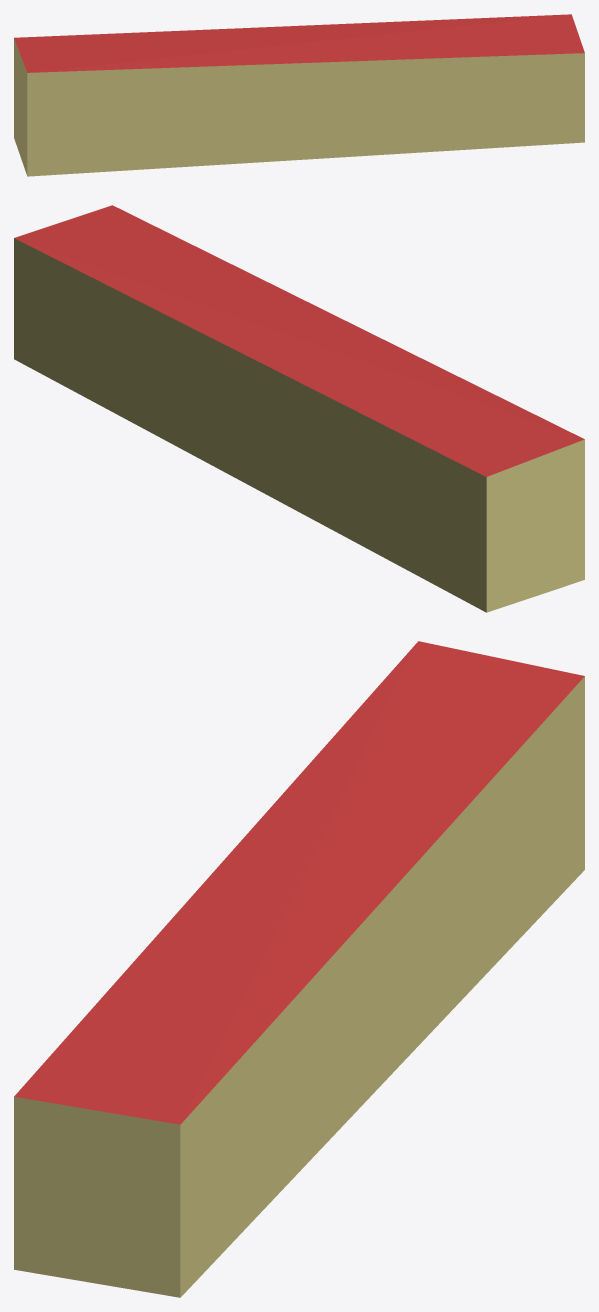
The picture shows the model from 3 angles, top to bottom: view 1: azimuth 30°, elevation 25°; view 2: azimuth 150°, elevation 25°; view 3: azimuth 270°, elevation 25°; orthographic projection. The views are drawn at different scales.
Bounding box in the file's own units: 30.36 × 16.06 × 6.23.
